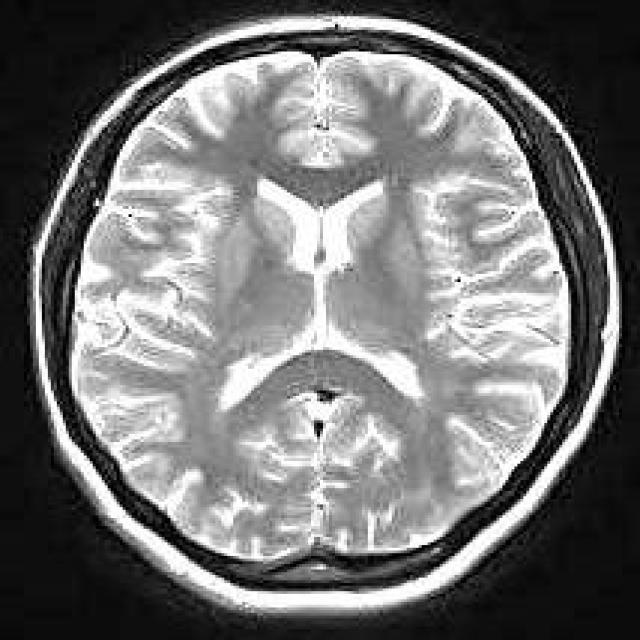notumor: (36, 19, 622, 616)
